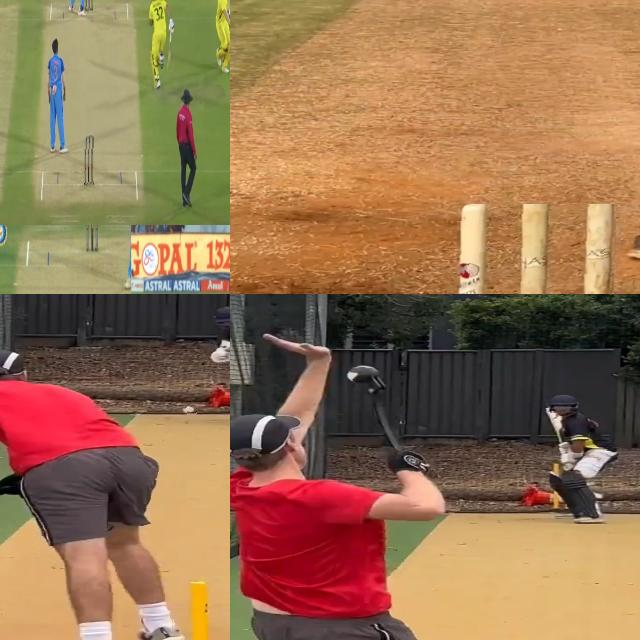Cricket ball: (182, 406, 197, 416)
Stumps: (457, 204, 616, 294), (84, 132, 95, 190), (84, 0, 93, 14)
